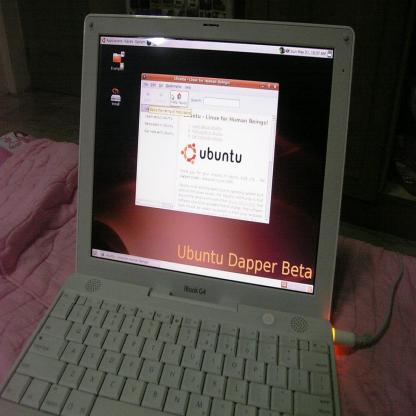board: (0, 13, 355, 416)
